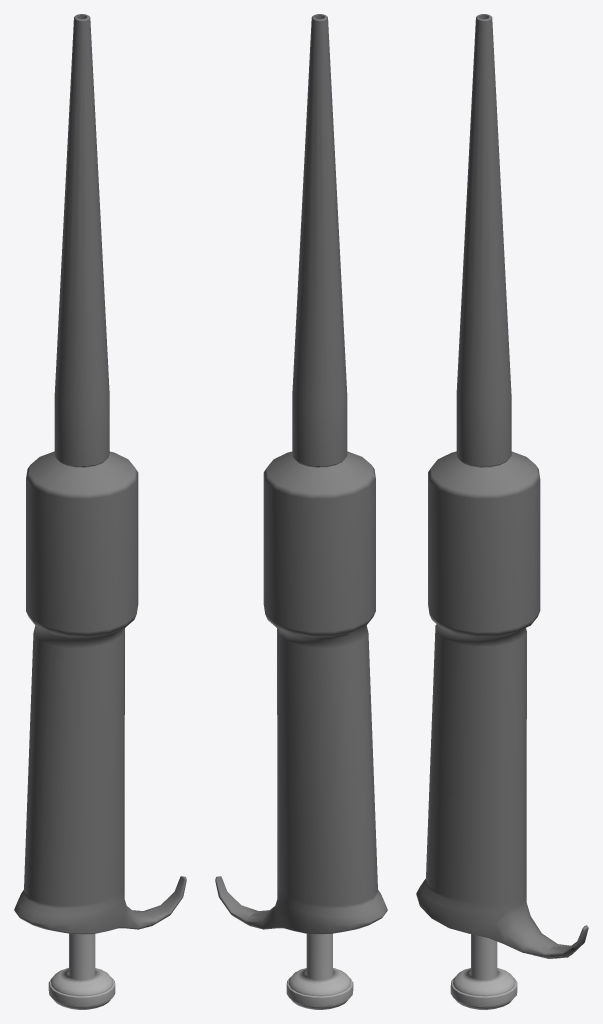
Rendered from pipette.fbx.
The picture shows the model from 3 angles, left to right: view 1: azimuth 30°, elevation 25°; view 2: azimuth 150°, elevation 25°; view 3: azimuth 330°, elevation 25°; orthographic projection.
Parts seen in each view (by area): view 1: poly (×2), pCylinder1; view 2: poly (×2), pCylinder1; view 3: poly (×2), pCylinder1.
Boxes of the visible parts, left/top/right/bottom form: poly (×2): left=14, top=14, right=186, bottom=934; pCylinder1: left=48, top=933, right=115, bottom=1009; poly (×2): left=215, top=14, right=387, bottom=934; pCylinder1: left=286, top=933, right=353, bottom=1009; poly (×2): left=416, top=14, right=588, bottom=958; pCylinder1: left=450, top=934, right=517, bottom=1009.
Size of the model in its own units: 1.88 by 10.62 by 1.11.
